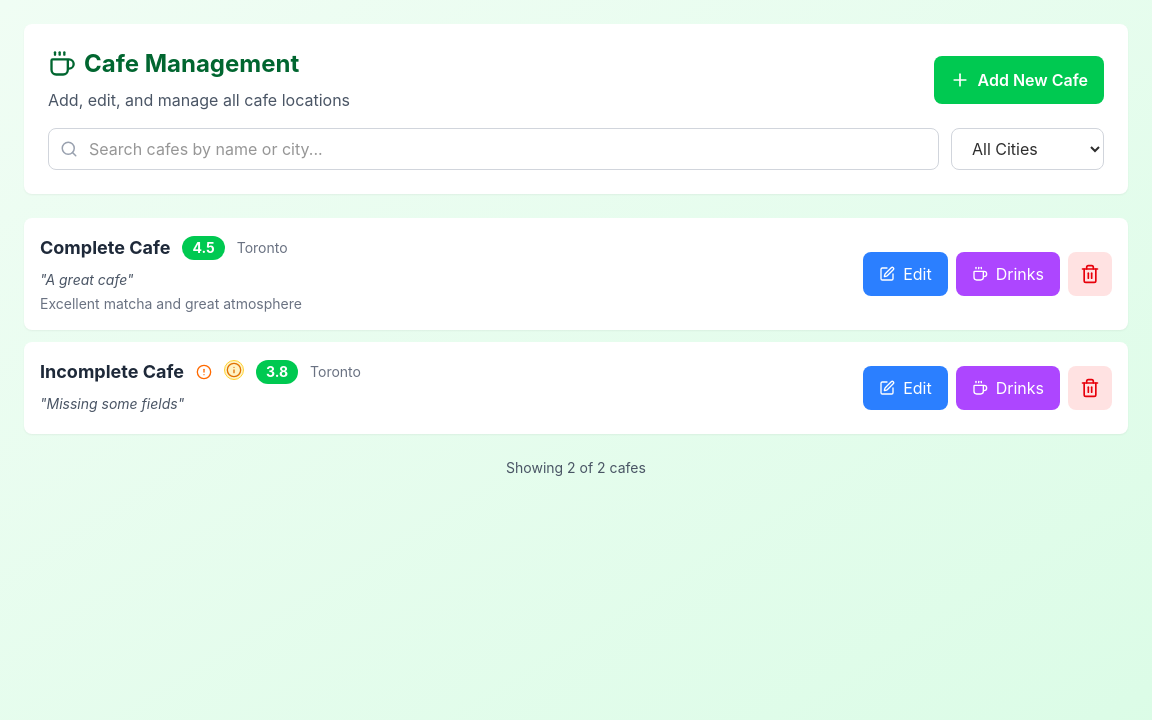
it: CafeManagementPage › MissingFieldsIndicator › toggles tooltip on click for mobile
Click to show tooltip
Click the icon with test id "lucide-info": {"x": 234, "y": 370} 226,362 -> 242,378
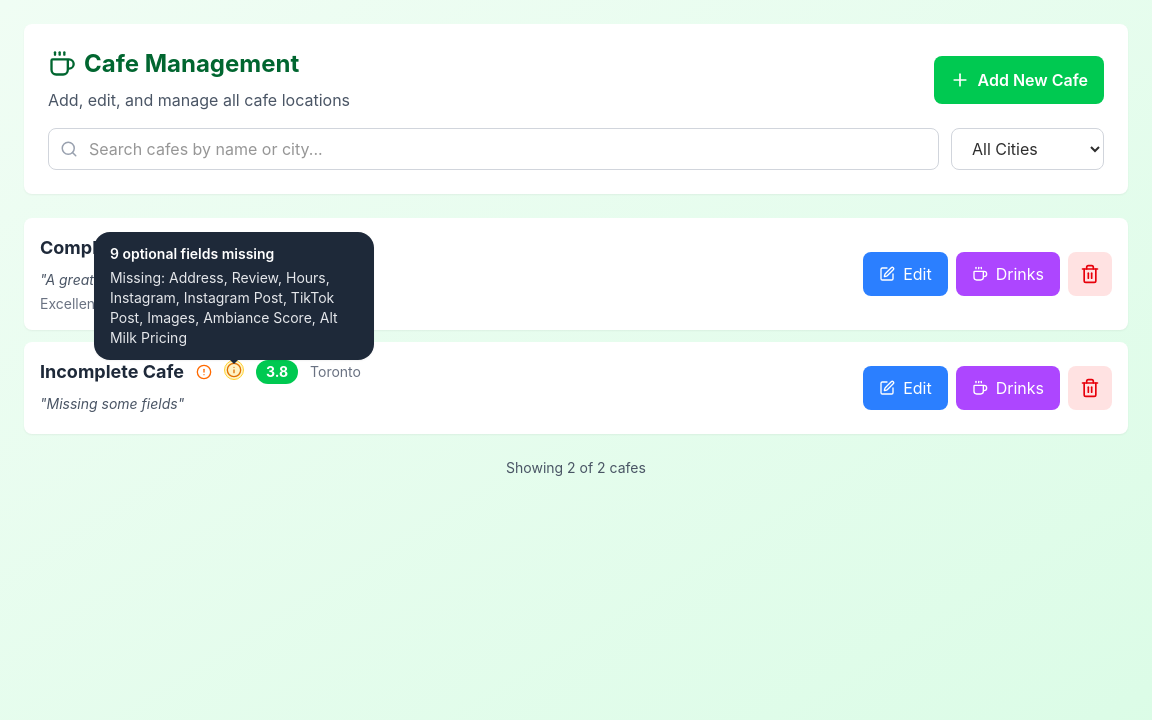
expect the text "9 optional fields missing" is shown: met, box 110,245 -> 274,262
